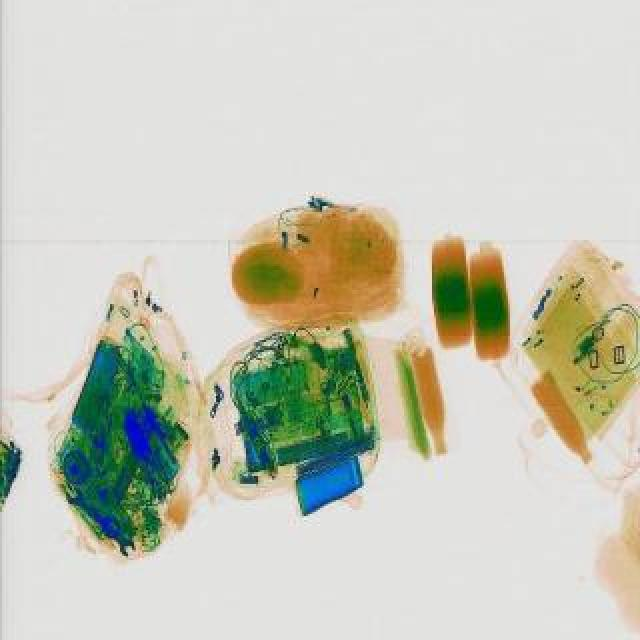scissors: (60, 482, 140, 560)
